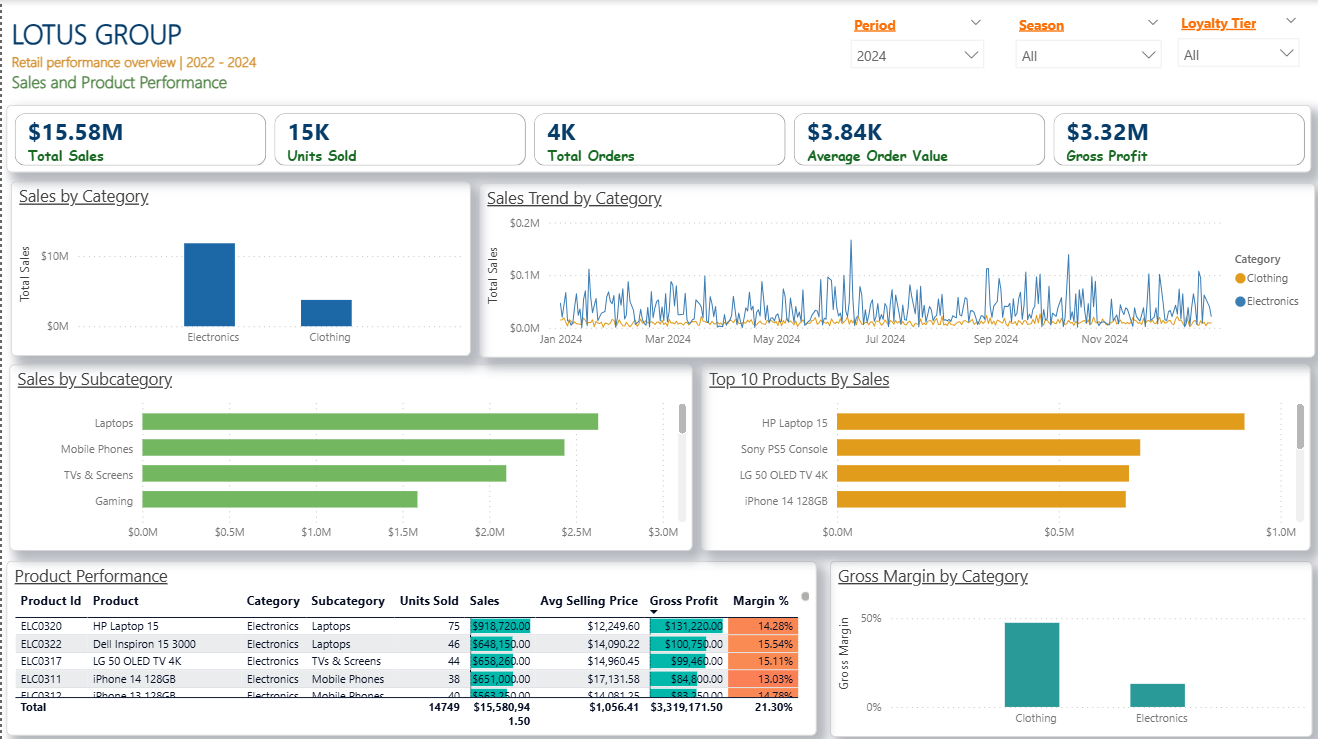

Layout of this report page (visuals, bound fields, positions):
{"tool":"powerbi","page":{"name":"Sales and Product Performance","canvas":[1280,720],"ordinal":1},"visuals":[{"type":"slicer","fields":{"Values":["dim_date.full_date.Variation.Date Hierarchy.Year","dim_date.full_date.Variation.Date Hierarchy.Quarter","dim_date.full_date.Variation.Date Hierarchy.Month"]},"box":[814.1,8.2,149.4,62.4],"z":0},{"type":"cardVisual","fields":{"Data":["_Measures.Total Sales","_Measures.Units Sold","_Measures.Total Orders","_Measures.Average Order Value","_Measures.Gross Profit"]},"box":[4,102.2,1266.3,65],"z":1000},{"type":"textbox","box":[4.6,9.2,304.3,86.5],"z":2000},{"type":"clusteredColumnChart","title":"Sales by Category","fields":{"Category":["dim_products.category"],"Y":["_Measures.Total Sales"]},"box":[8.1,176.4,446.1,169.5],"z":3000},{"type":"lineChart","title":"Sales Trend by Category","fields":{"Y":["_Measures.Total Sales"],"Category":["dim_date.full_date"],"Series":["dim_products.category"]},"box":[462.3,177.5,811.6,169.5],"z":4000},{"type":"clusteredBarChart","title":"Sales by Subcategory","fields":{"Category":["dim_products.subcategory"],"Y":["_Measures.Total Sales"]},"box":[6.9,353.9,662.9,181],"z":5000},{"type":"clusteredColumnChart","title":"Gross Margin by Category","fields":{"Y":["_Measures.Gross Margin %"],"Category":["dim_products.category"]},"box":[803.5,544.1,468,170.6],"z":6000},{"type":"tableEx","title":"Product Performance","fields":{"Values":["dim_products.product_id","dim_products.product_name_raw","dim_products.category","dim_products.subcategory","_Measures.Units Sold","_Measures.Total Sales","_Measures.Average Selling Price","_Measures.Gross Profit","_Measures.Gross Margin %"]},"box":[4.6,544.1,786.2,169.5],"z":7000},{"type":"clusteredBarChart","title":"Top 10 Products By Sales","fields":{"Y":["_Measures.Total Sales"],"Category":["dim_products.product_name_raw"]},"box":[679,353.9,591.4,181],"z":8000},{"type":"slicer","fields":{"Values":["dim_date.Period Type"]},"box":[974.1,8.2,161.2,62.4],"z":9000},{"type":"slicer","fields":{"Values":["dim_customers.loyalty_tier"]},"box":[1130.9,8,138,62.4],"z":10000}]}

Visuals, with their boxes in screenshot pixels (x1, y1, x2, y2), scaled from the page's 1280x720 canvas onto the 1318x739 screenshot:
slicer - dim_date.full_date.Variation.Date Hierarchy.Year x dim_date.full_date.Variation.Date Hierarchy.Quarter: region(838, 8, 992, 72)
cardVisual - _Measures.Total Sales x _Measures.Units Sold: region(4, 105, 1308, 172)
textbox: region(5, 9, 318, 98)
"Sales by Category" clusteredColumnChart: region(8, 181, 468, 355)
"Sales Trend by Category" lineChart: region(476, 182, 1312, 356)
"Sales by Subcategory" clusteredBarChart: region(7, 363, 690, 549)
"Gross Margin by Category" clusteredColumnChart: region(827, 558, 1309, 734)
"Product Performance" tableEx: region(5, 558, 814, 732)
"Top 10 Products By Sales" clusteredBarChart: region(699, 363, 1308, 549)
slicer - dim_date.Period Type: region(1003, 8, 1169, 72)
slicer - dim_customers.loyalty_tier: region(1164, 8, 1307, 72)
